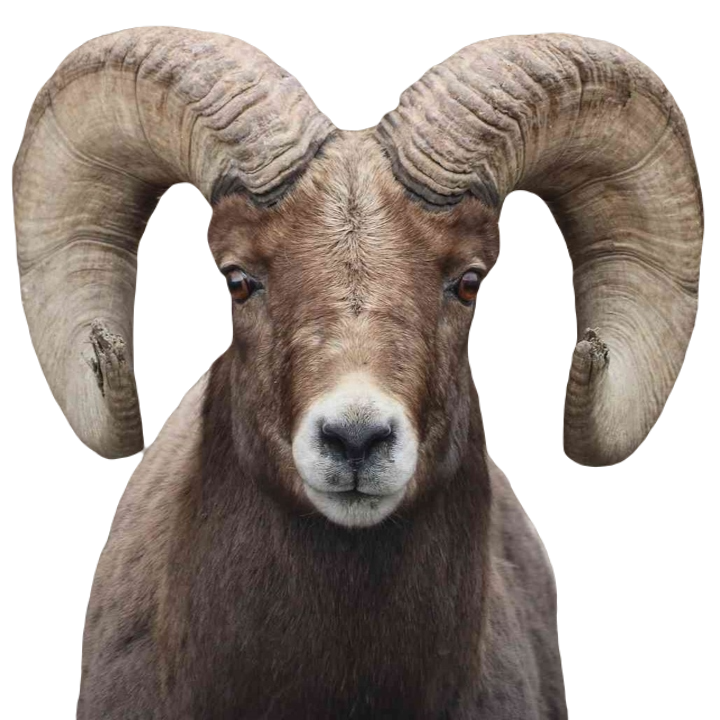Sheep: (8, 22, 711, 719)
